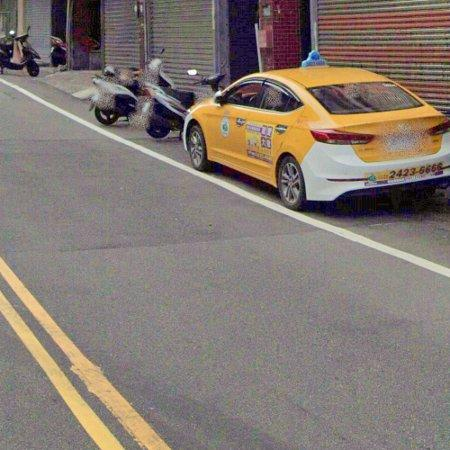taxis: (183, 67, 450, 208)
